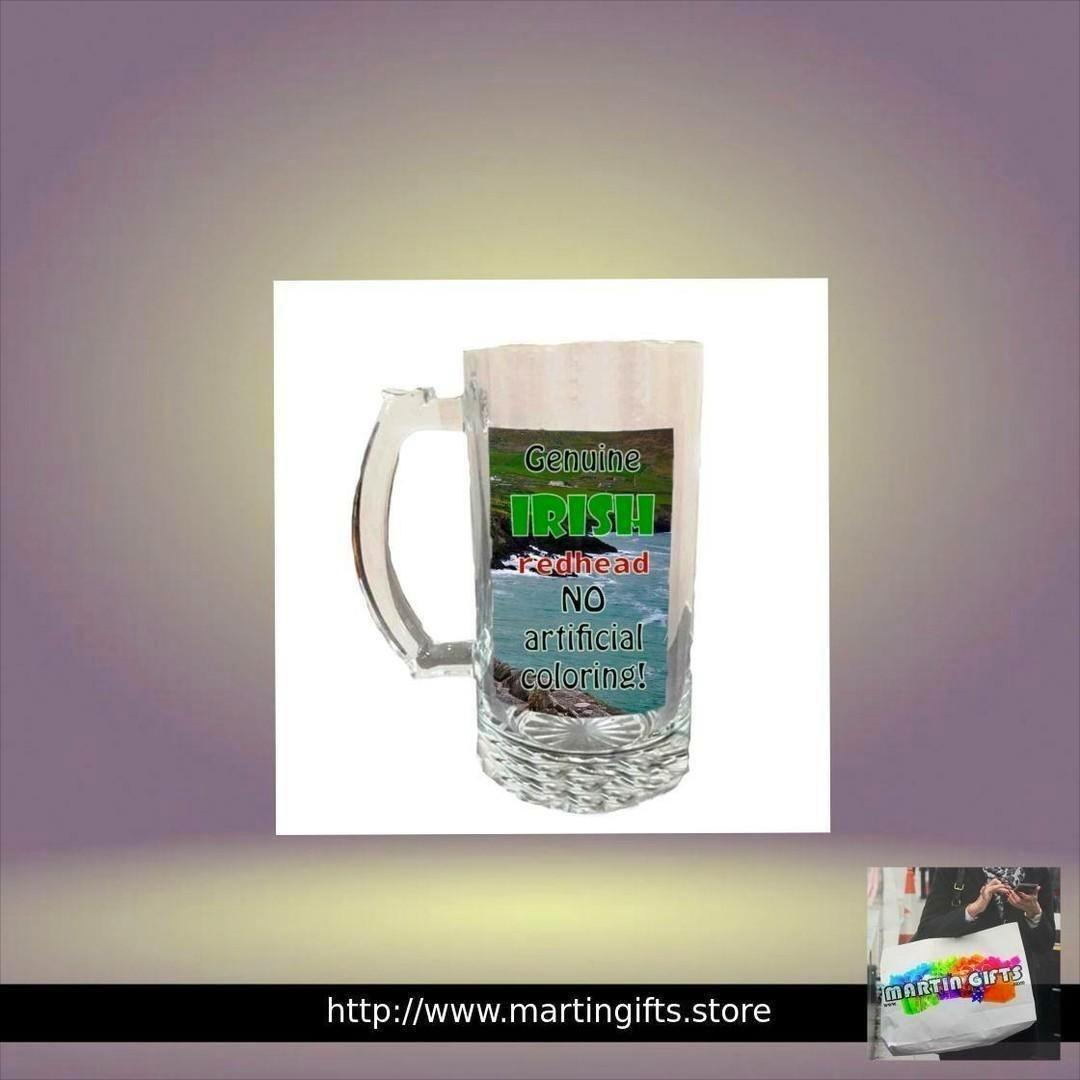glass-mug: (348, 325, 717, 815)
